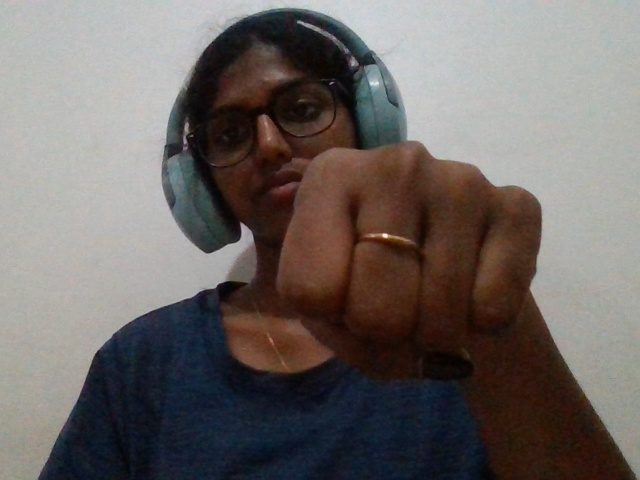Yes: (254, 119, 636, 423)
